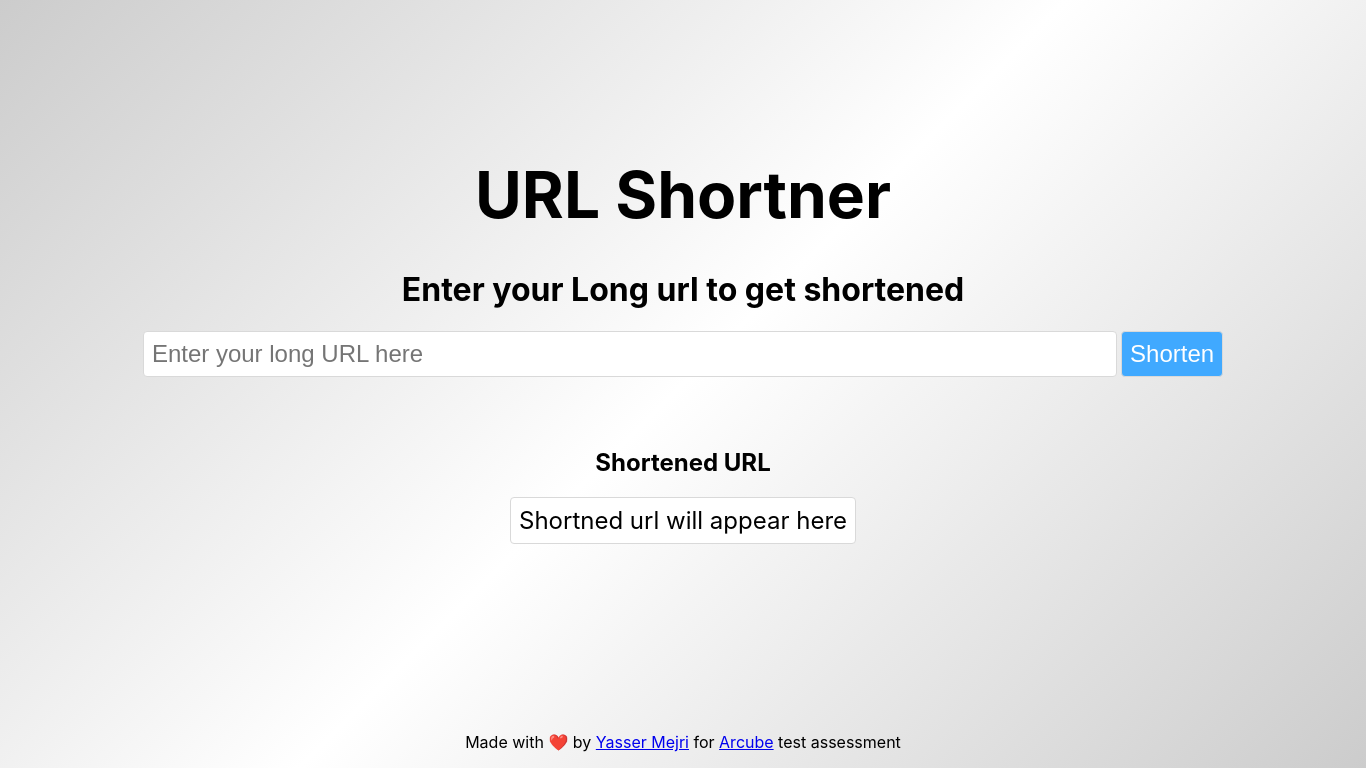
shows error message for invalid URL
Type "invalid-url" into the field with test id "url-input".
click(630, 354); type("invalid-url")  # box top-left (143, 330), bottom-right (1117, 376)
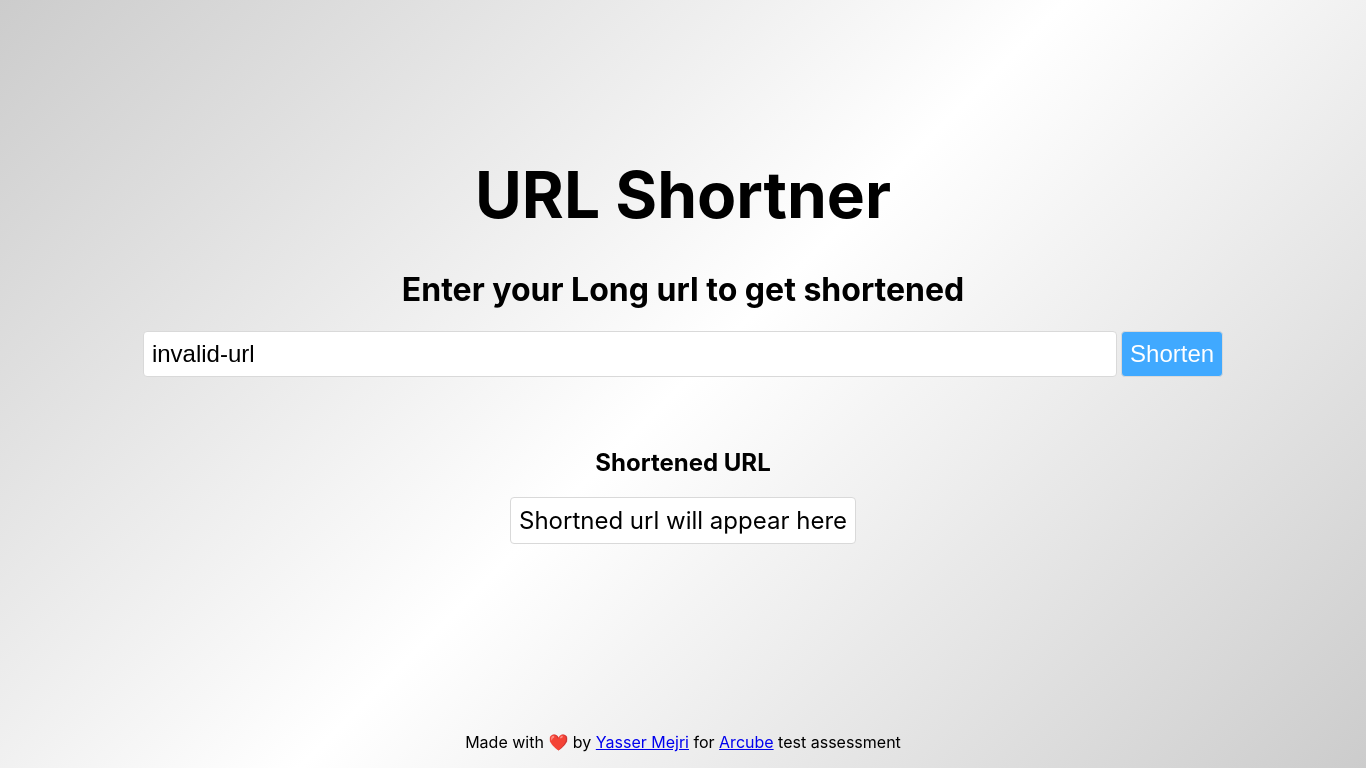
Click the button with test id "shorten-button".
click(1172, 354)  # box top-left (1121, 330), bottom-right (1223, 376)
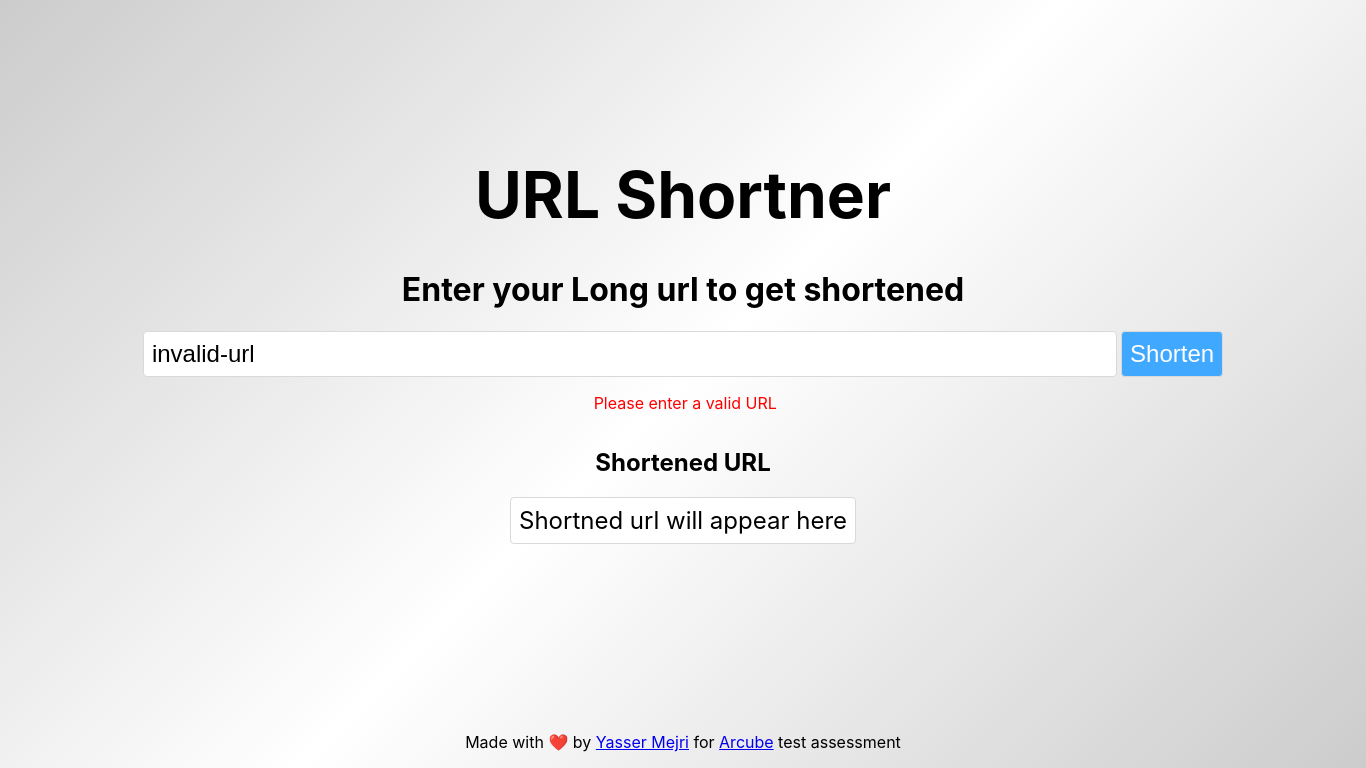
Check: the text "Please enter a valid URL" is shown, box top-left (594, 392), bottom-right (777, 412)
